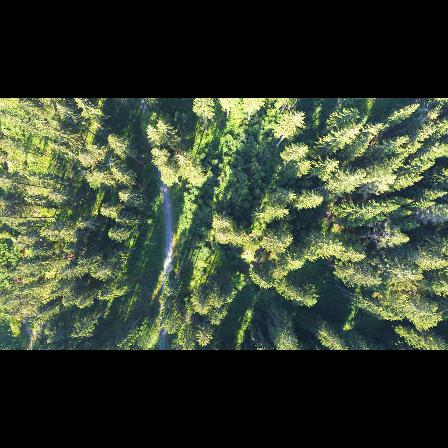Sick: (101, 154, 121, 171)
